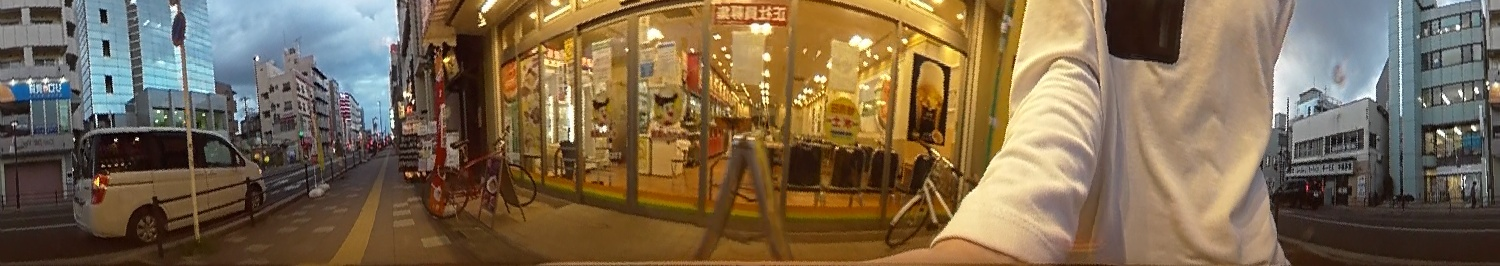difficult_person: (1469, 176, 1479, 210)
